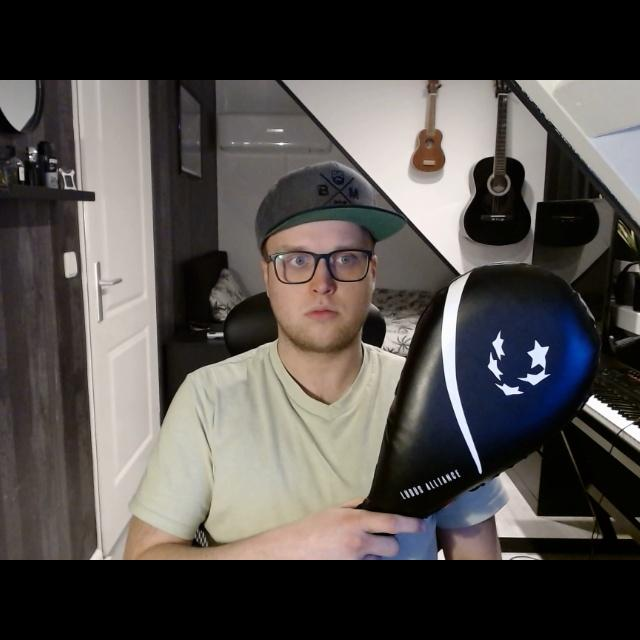paddle: (364, 257, 603, 513)
